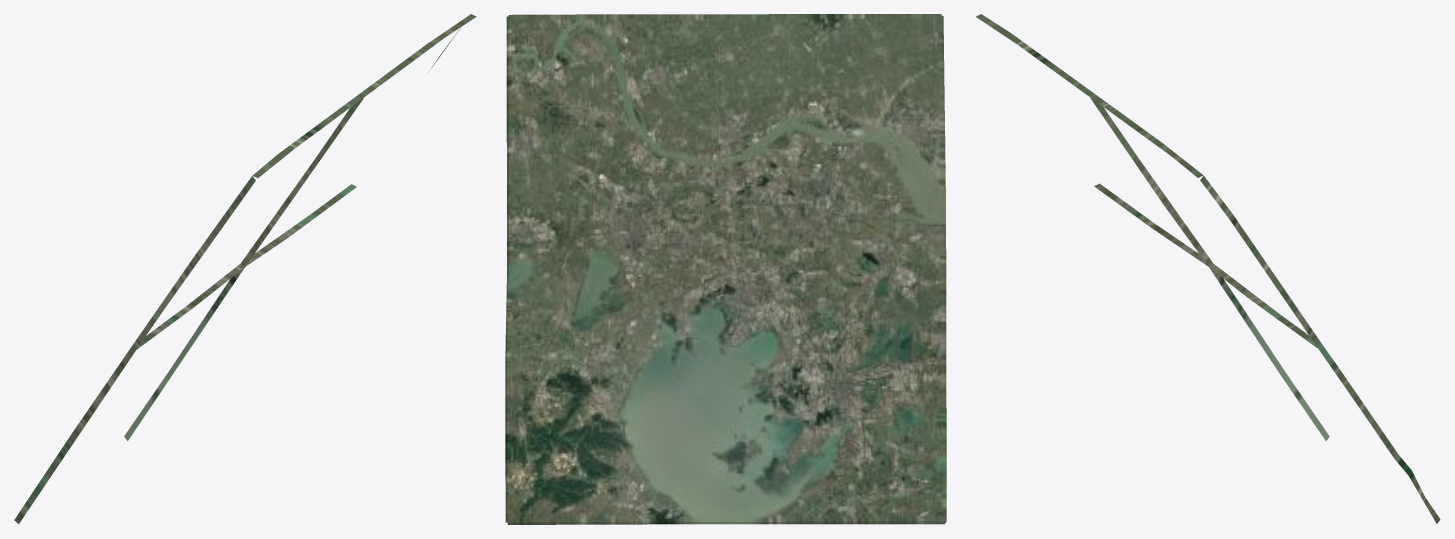
3 renders of one model, left to right at view 1: azimuth 30°, elevation 25°; view 2: azimuth 150°, elevation 25°; view 3: azimuth 270°, elevation 25°, orthographic. The views are drawn at different scales.
Bounding box in the file's own units: 158921 × 135304 × 140127.
Materials: 1 (1 with a texture image).
